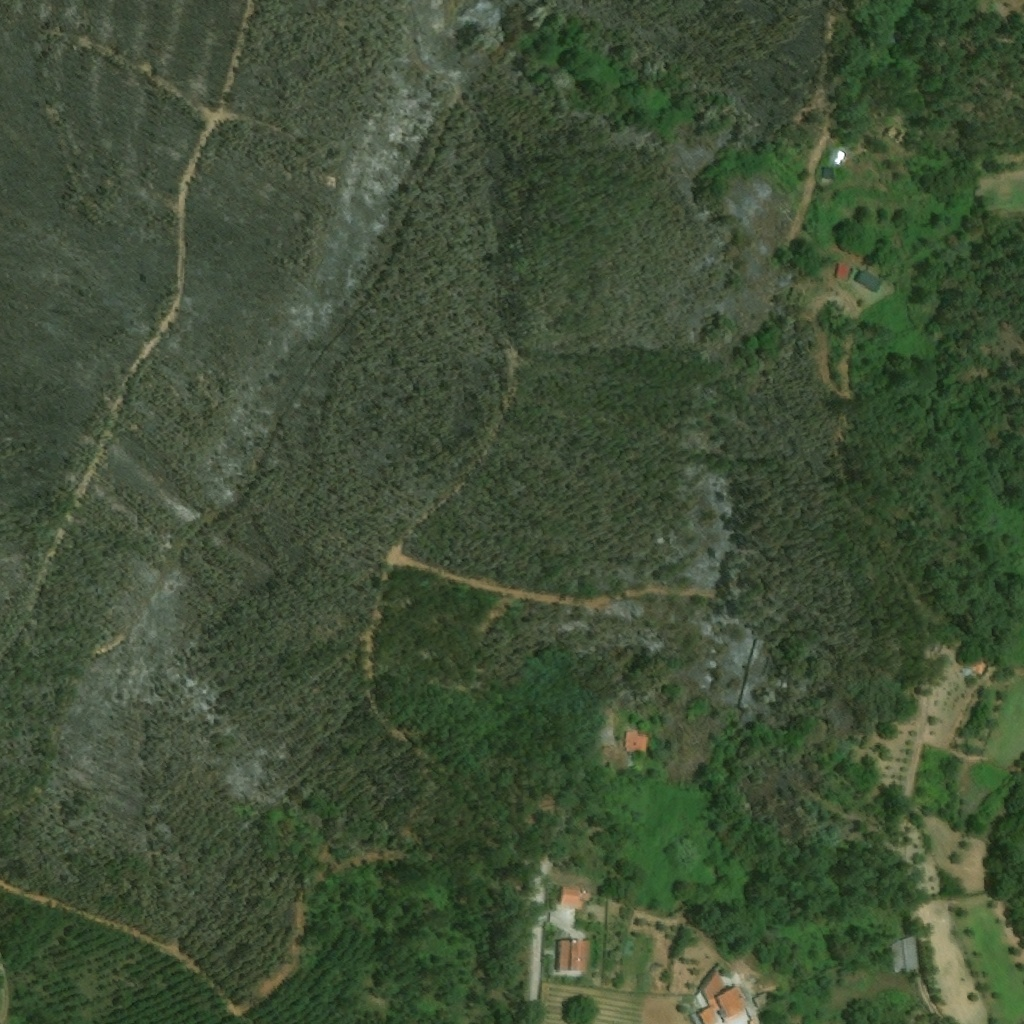0 no-damage: (695, 969, 749, 1023), (888, 936, 922, 976), (556, 939, 591, 973), (560, 886, 593, 909), (624, 732, 648, 753), (754, 993, 770, 1009), (972, 661, 986, 676)
